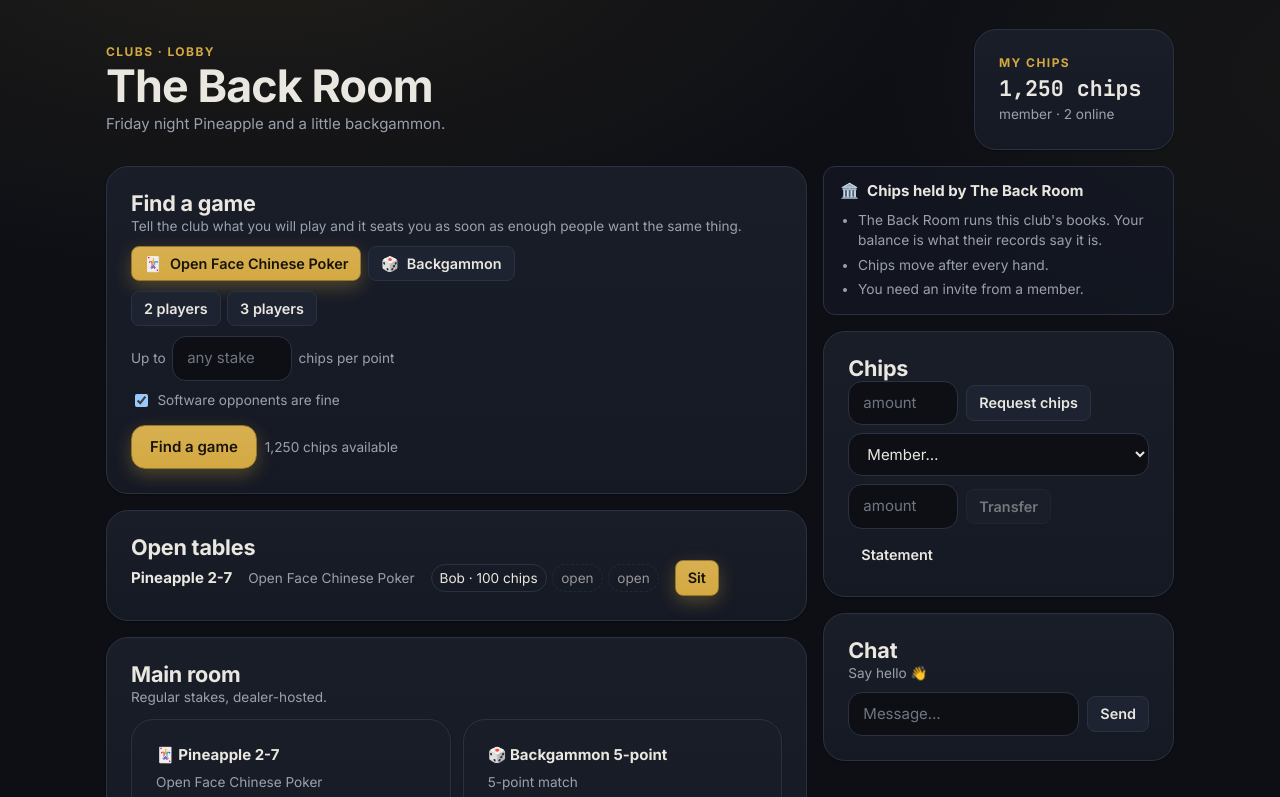
Test: LobbyScreen › statement, transfer, request and chat drive the client
Click the button with test id "statement-button". click: {"x": 897, "y": 554}
box: [848,537,946,572]
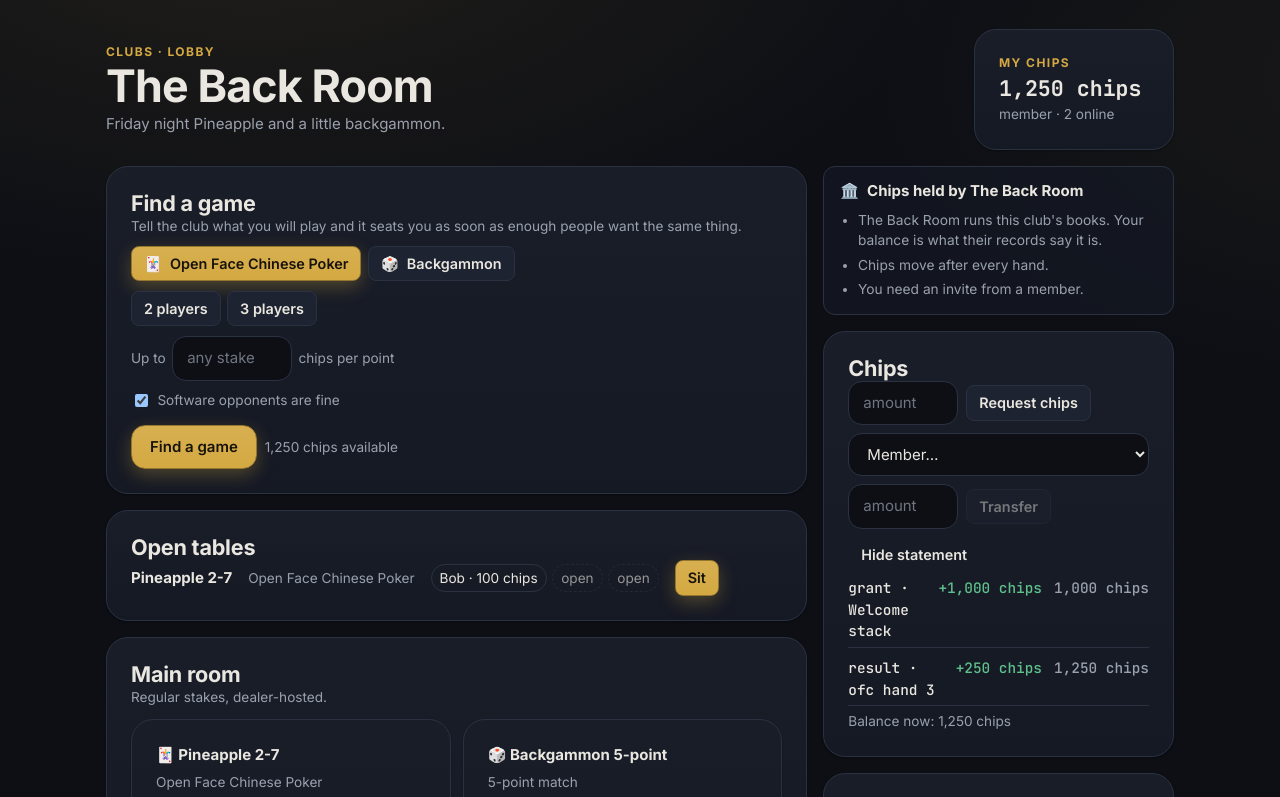
Result: the element with test id "statement-entry-2" shows "+250 chips" at [956,658,1042,677]
Result: the text with test id "statement-balance" reads "Balance now: 1,250 chips" at [848,713,1011,729]
Type "50" into the field with test id "request-amount". click: {"x": 903, "y": 403}
box: [848,381,958,425]
Click the button with test id "request-chips-button". click: {"x": 1029, "y": 403}
box: [966,385,1091,421]
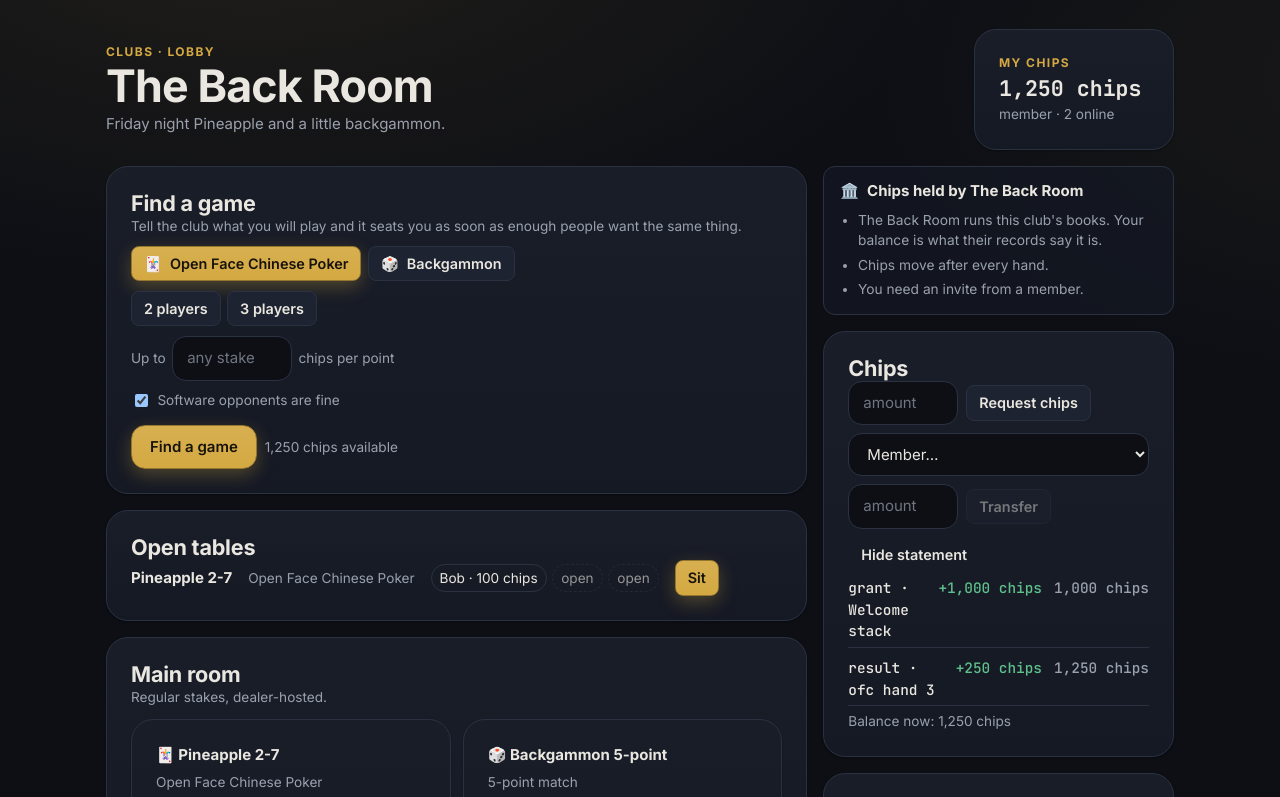
Select "Bob" in the dropdown with test id "transfer-to". click: {"x": 999, "y": 455}
box: [848,433,1149,476]
Type "25" into the field with test id "transfer-amount". click: {"x": 903, "y": 506}
box: [848,484,958,529]
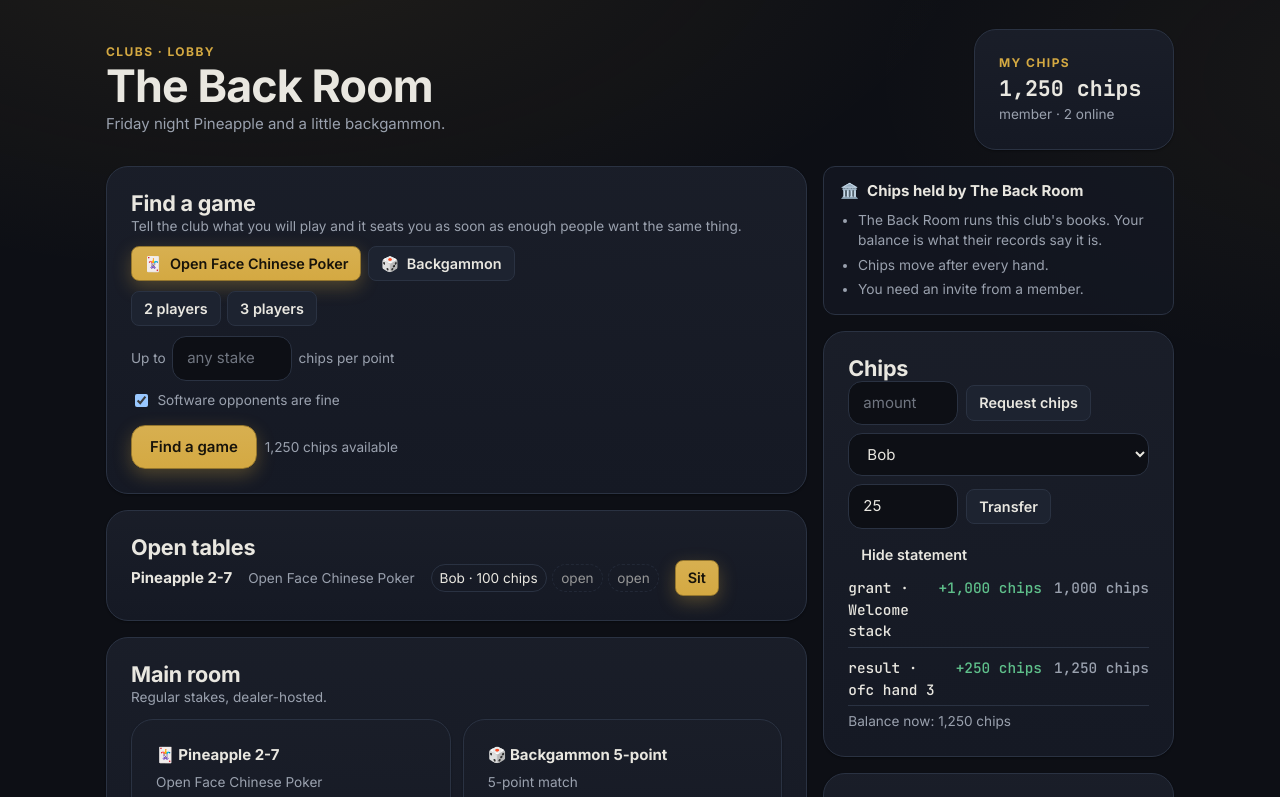
Click the button with test id "transfer-button". click: {"x": 1009, "y": 506}
box: [966,489,1051,524]
(page scrolled)
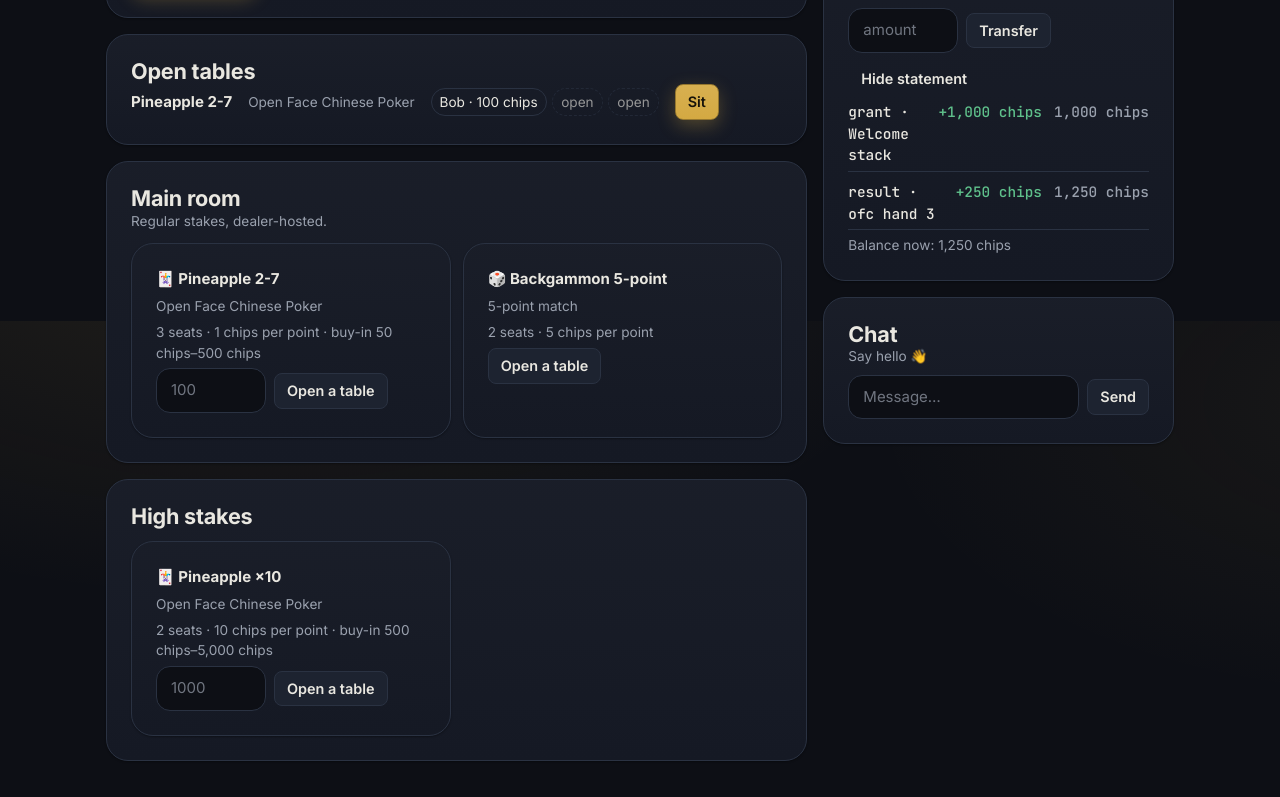
Type "gg" into the field with test id "club-chat-input". click: {"x": 964, "y": 397}
box: [848,375,1079,419]
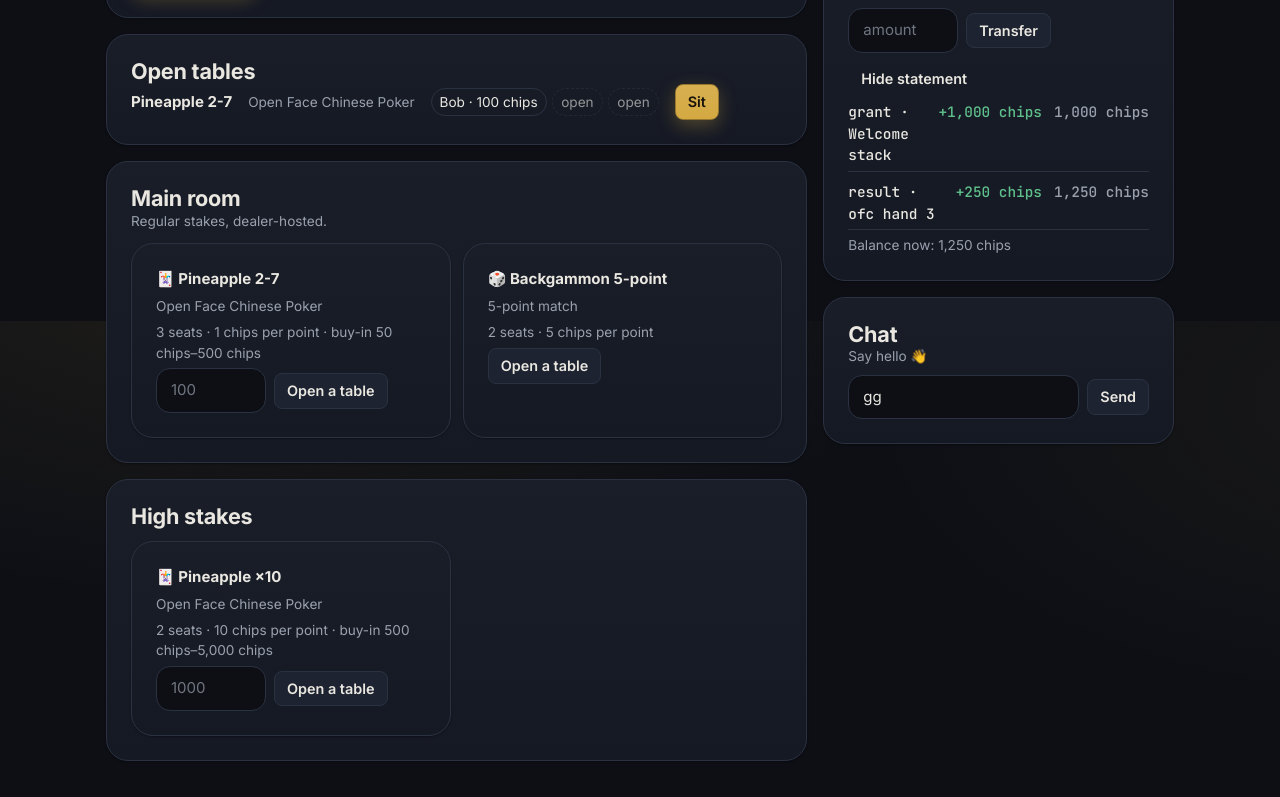
Click the button with test id "club-chat-send". click: {"x": 1118, "y": 397}
box: [1087,379,1149,415]
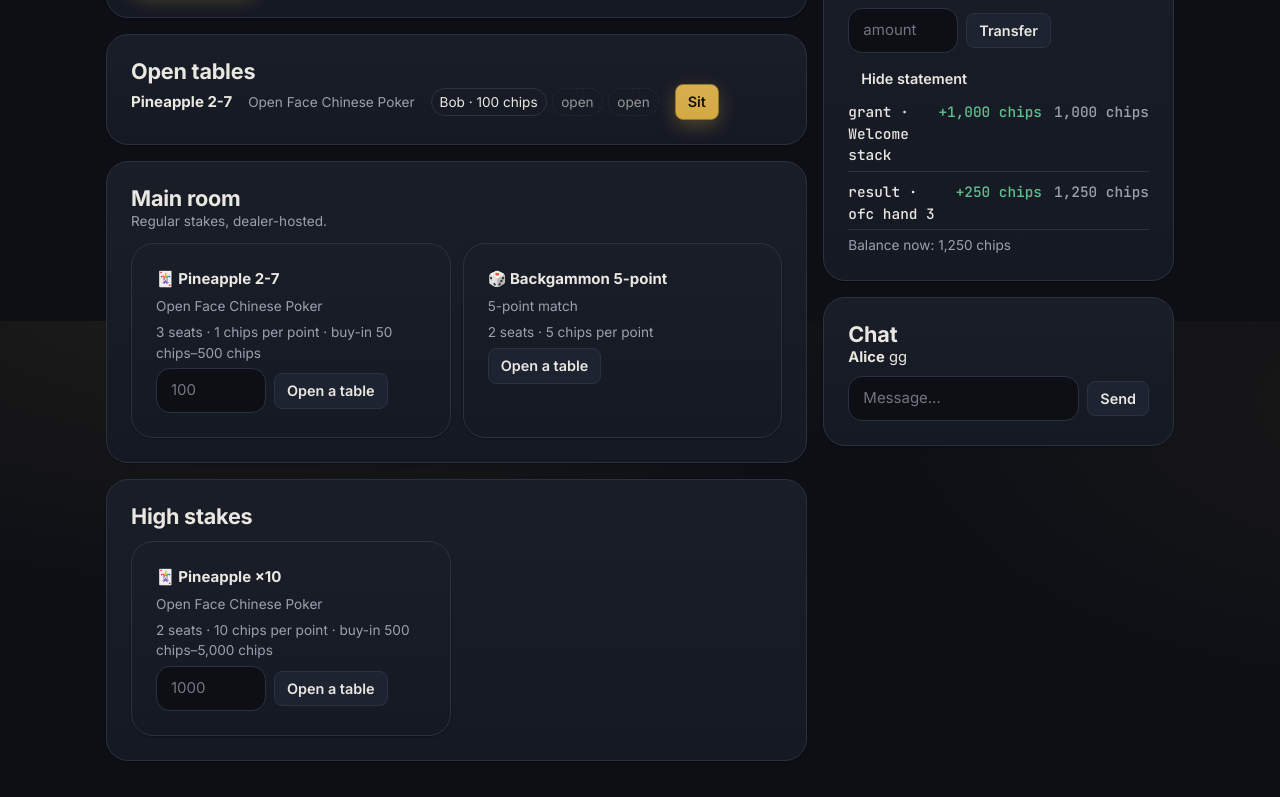
Result: the element with test id "club-chat-message" shows "gg" at [889,348,907,366]
